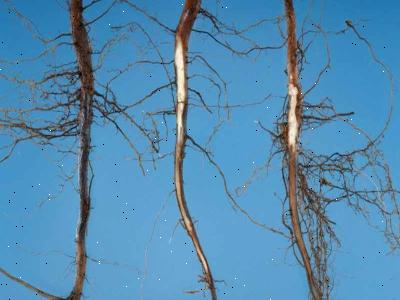Root: (174, 0, 216, 299), (284, 0, 320, 299), (68, 0, 94, 299)
